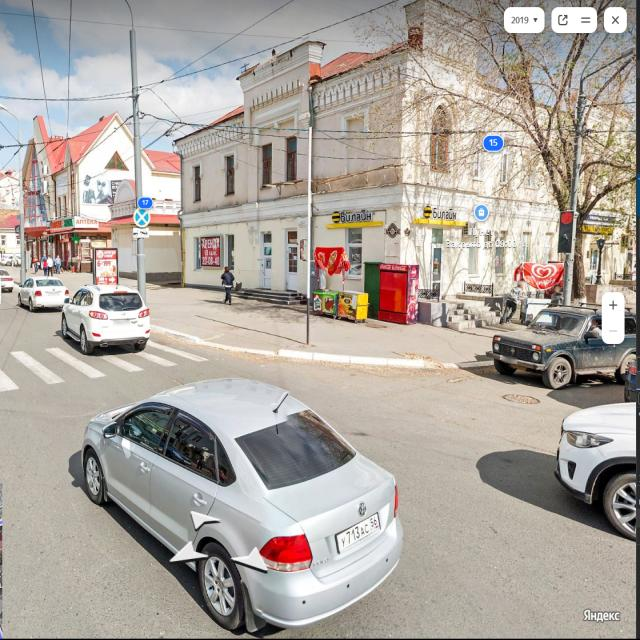market: (312, 245, 346, 318), (336, 283, 368, 323)
